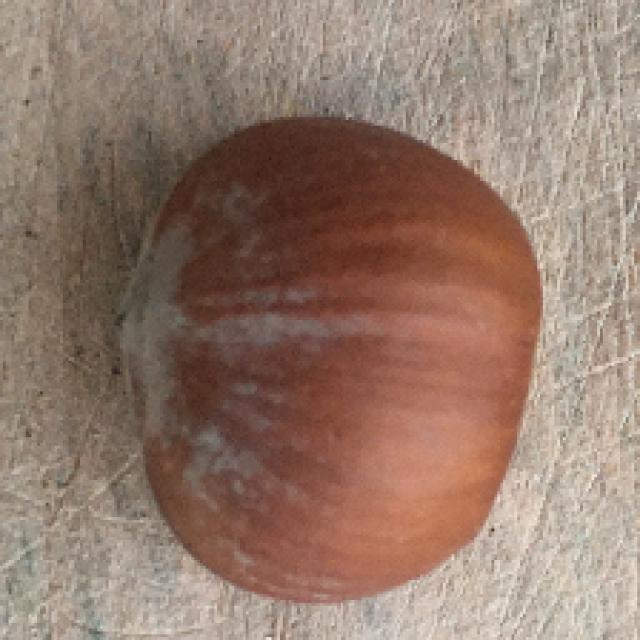qualityHazelnut: (121, 115, 544, 601)
